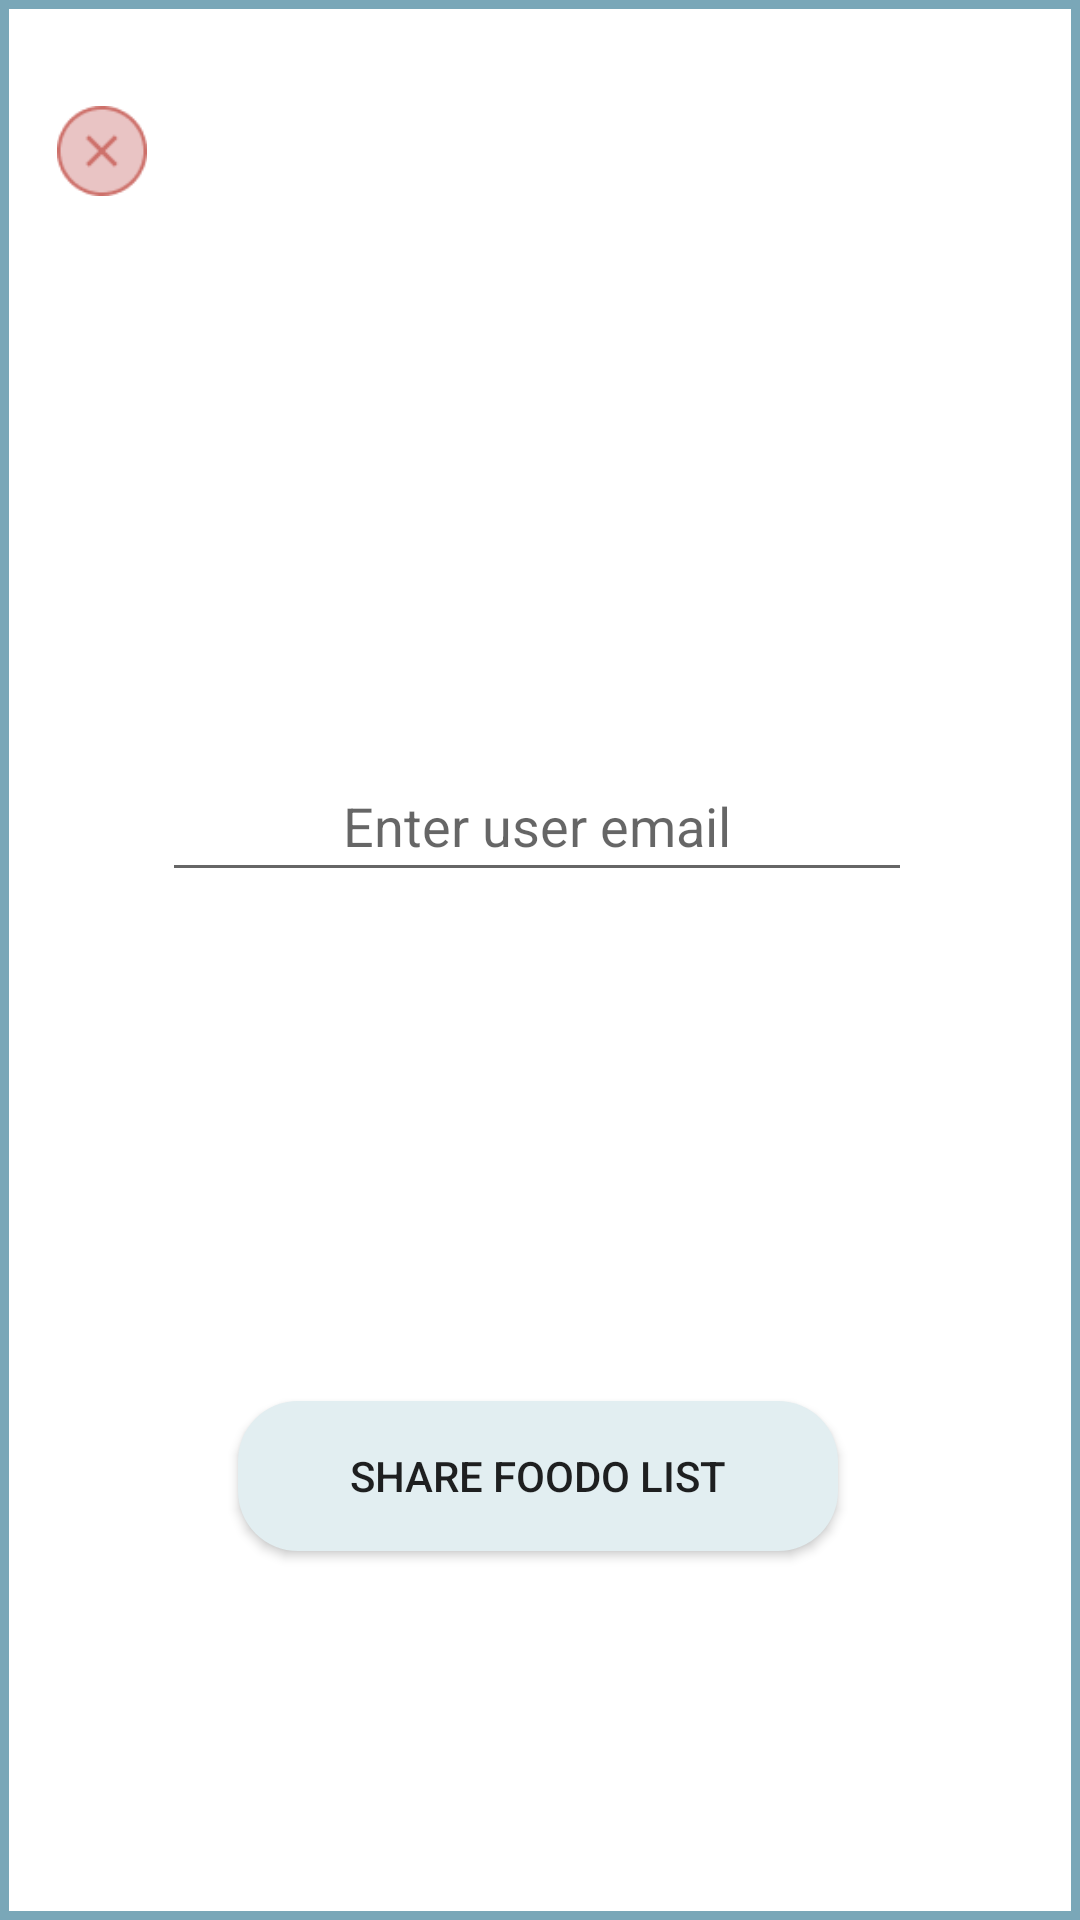

Screen size 1080w x 1920h. Icon name, then its center in pixels as [x,y]:
cancel: [102,151]
